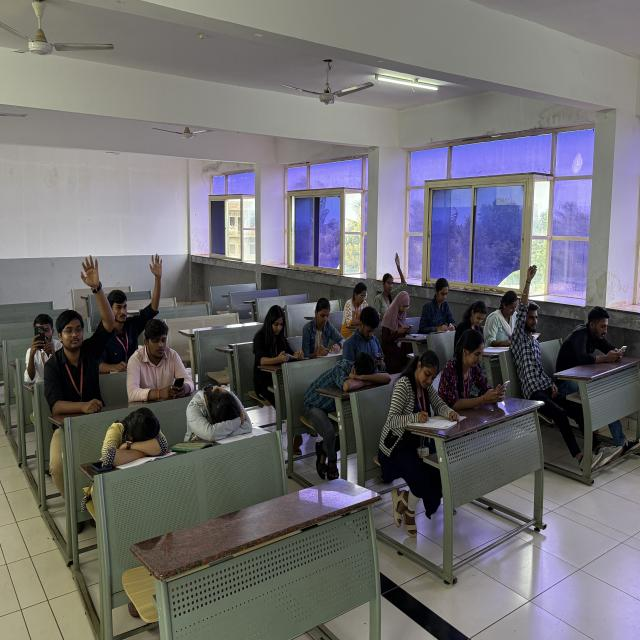Hand Rising: (54, 256, 115, 420), (104, 242, 164, 356), (510, 260, 554, 385), (375, 246, 407, 309)
Reading: (252, 302, 309, 376)
Sleeping: (299, 347, 398, 419), (178, 377, 264, 448), (94, 404, 176, 474)
Using Phone: (122, 316, 203, 406), (443, 326, 511, 404), (553, 301, 629, 367), (22, 309, 66, 380), (379, 289, 417, 340)
Writing: (382, 344, 462, 438), (300, 295, 345, 357), (420, 274, 456, 336)
